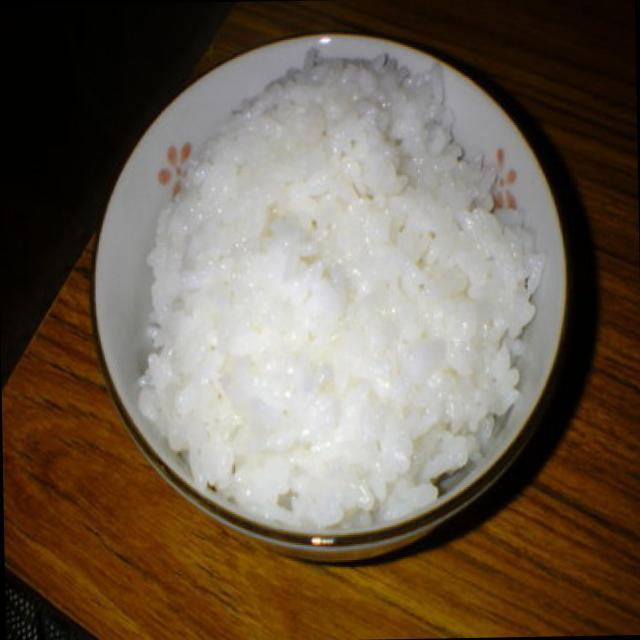Rice: (136, 63, 542, 492)
